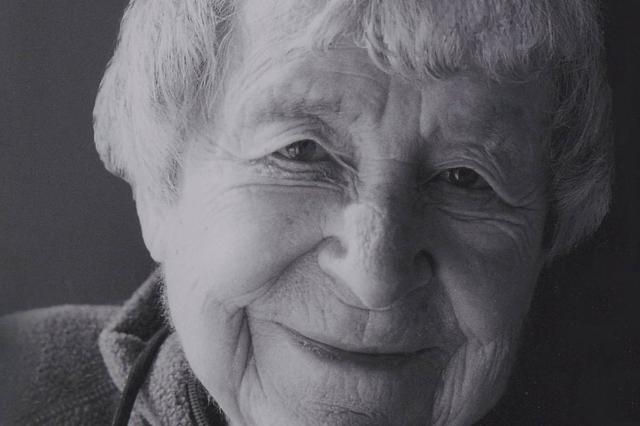crows_feet: (501, 189, 535, 239), (202, 140, 248, 167)
frown_line: (376, 83, 392, 132), (412, 96, 428, 140), (378, 152, 414, 170)
gummy_smile: (276, 228, 326, 280), (431, 266, 469, 332)
masseter: (488, 333, 507, 384)
sad_smile: (234, 304, 272, 386), (435, 345, 459, 405)
smoker_lines: (333, 296, 405, 316)
